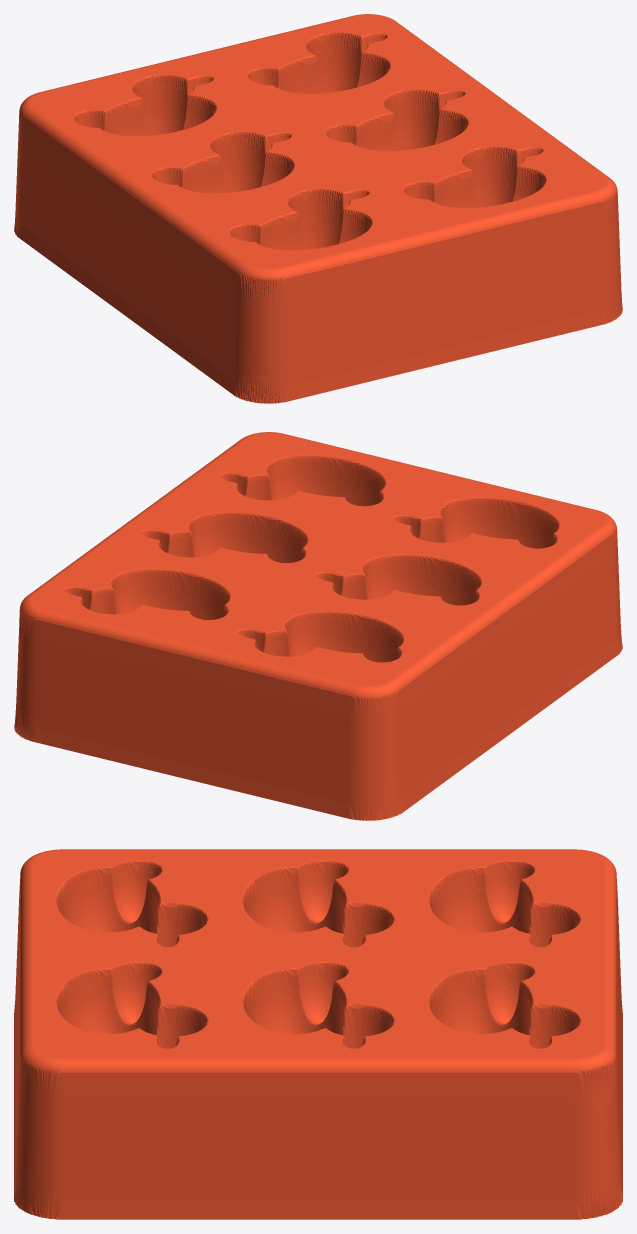
The model's file is mold.glb.
3 views of the same model, one above another, from view 1: azimuth 30°, elevation 25°; view 2: azimuth 150°, elevation 25°; view 3: azimuth 270°, elevation 25° (orthographic). The views are drawn at different scales.
Visible parts, largest first — view 1: geometry_0; view 2: geometry_0; view 3: geometry_0.
Part boxes in pixels (bbox=[...]): geometry_0: bbox=[14, 14, 622, 403]; geometry_0: bbox=[14, 432, 622, 820]; geometry_0: bbox=[14, 849, 622, 1219].
Size of the model in its own units: 0.0986 by 0.0314 by 0.1132.
